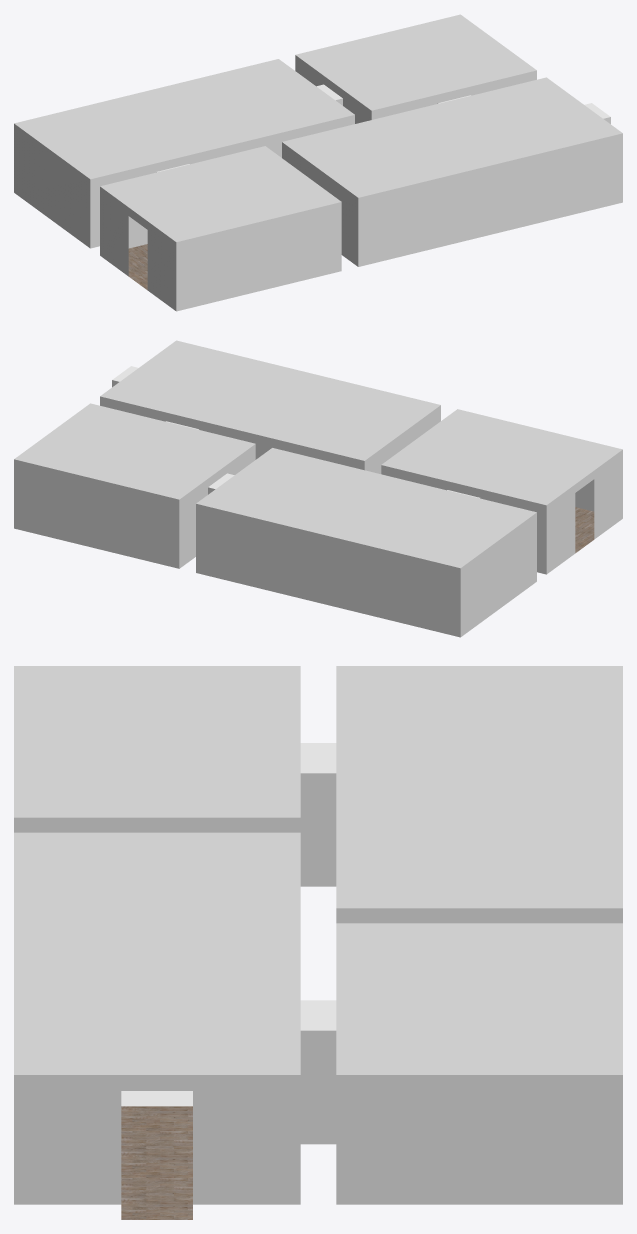
File: moma-gallery.glb
3 renders of one model, top to bottom at view 1: azimuth 30°, elevation 25°; view 2: azimuth 150°, elevation 25°; view 3: azimuth 270°, elevation 25°, orthographic. The views are drawn at different scales.
Parts seen in each view (by area): view 1: Ceiling-01-col, Ceiling-03-col, Wall-01-south-col, Ceiling-04-col, Ceiling-02-col, Wall-04-south-col, Wall-03-west-col, Wall-01-west-col, Wall-04-west-2-col, Wall-04-west-1-col, Wall-03-south-1-col, Wall-03-south-2-col (+6 smaller); view 2: Ceiling-01-col, Ceiling-03-col, Wall-03-north-col, Ceiling-02-col, Ceiling-04-col, Wall-02-north-col, Wall-03-west-col, Wall-04-west-1-col, Wall-04-west-2-col, Wall-01-north-1-col, Wall-02-west-2-col, Wall-01-west-col (+6 smaller); view 3: Ceiling-01-col, Ceiling-03-col, Ceiling-02-col, Ceiling-04-col, Wall-02-east-col, Wall-01-east-1-col, Wall-01-east-2-col, Floor-01-col, Passage-01-to-02-walls-col, Passage-03-to-04-walls-col, Wall-04-east-col, Wall-03-east-2-col (+5 smaller).
Part boxes in pixels (bbox=[...]): Ceiling-01-col: bbox=[282, 77, 622, 197]; Ceiling-03-col: bbox=[14, 59, 354, 179]; Wall-01-south-col: bbox=[358, 133, 622, 266]; Ceiling-04-col: bbox=[100, 146, 341, 242]; Ceiling-02-col: bbox=[295, 14, 536, 110]; Wall-04-south-col: bbox=[176, 202, 341, 311]; Wall-03-west-col: bbox=[14, 123, 90, 247]; Wall-01-west-col: bbox=[282, 142, 358, 266]; Wall-04-west-2-col: bbox=[147, 221, 176, 310]; Wall-04-west-1-col: bbox=[100, 186, 128, 276]; Wall-03-south-1-col: bbox=[189, 115, 354, 164]; Wall-03-south-2-col: bbox=[90, 163, 156, 248]; Ceiling-01-col: bbox=[100, 340, 440, 460]; Ceiling-03-col: bbox=[196, 448, 536, 568]; Wall-03-north-col: bbox=[196, 504, 460, 637]; Ceiling-02-col: bbox=[14, 403, 255, 499]; Ceiling-04-col: bbox=[381, 409, 622, 505]; Wall-02-north-col: bbox=[14, 459, 179, 568]; Wall-03-west-col: bbox=[460, 512, 536, 636]; Wall-04-west-1-col: bbox=[546, 484, 575, 573]; Wall-04-west-2-col: bbox=[594, 449, 622, 539]; Wall-01-north-1-col: bbox=[199, 420, 364, 470]; Wall-02-west-2-col: bbox=[179, 479, 207, 568]; Wall-01-west-col: bbox=[364, 405, 440, 473]; Ceiling-01-col: bbox=[14, 832, 300, 1074]; Ceiling-03-col: bbox=[336, 666, 622, 908]; Ceiling-02-col: bbox=[336, 923, 622, 1074]; Ceiling-04-col: bbox=[14, 666, 300, 817]; Wall-02-east-col: bbox=[336, 1075, 622, 1204]; Wall-01-east-1-col: bbox=[193, 1075, 300, 1204]; Wall-01-east-2-col: bbox=[14, 1075, 121, 1204]; Floor-01-col: bbox=[121, 1106, 192, 1204]; Passage-01-to-02-walls-col: bbox=[300, 1000, 336, 1144]; Passage-03-to-04-walls-col: bbox=[300, 743, 336, 886]; Wall-04-east-col: bbox=[14, 817, 300, 832]; Wall-03-east-2-col: bbox=[336, 908, 443, 923].
Size of the model in its own units: 28 by 4 by 17.
3 materials, 1 textured.
